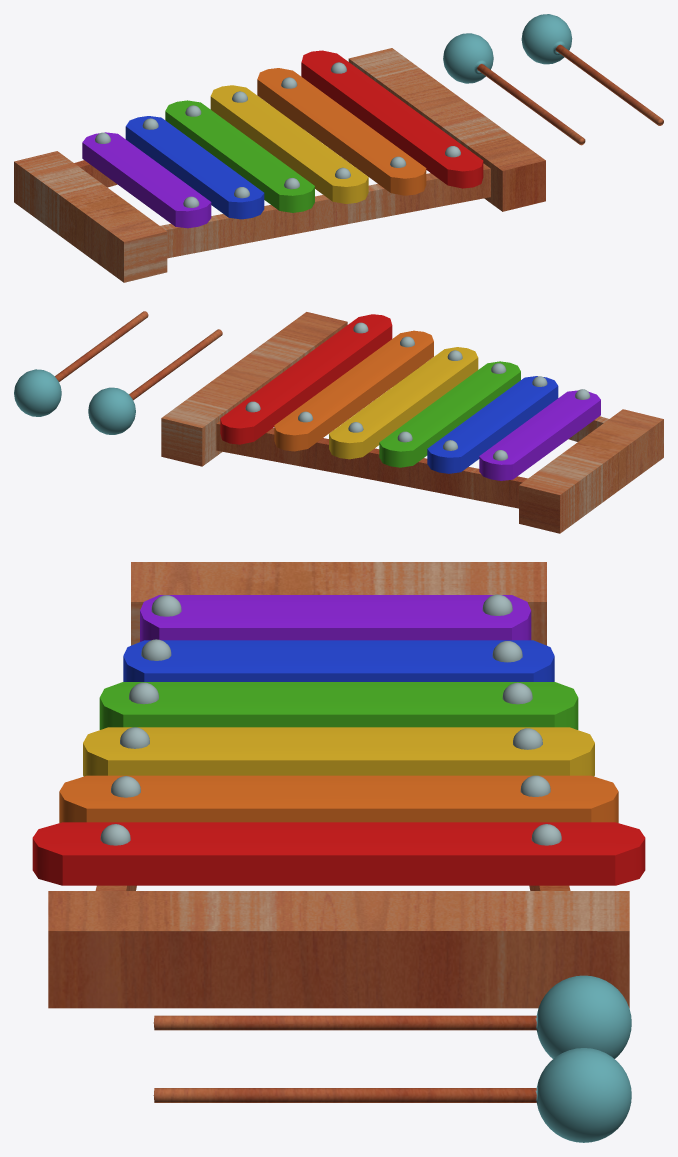
File: xylophone1.gltf
The picture shows the model from 3 angles, top to bottom: view 1: azimuth 30°, elevation 25°; view 2: azimuth 150°, elevation 25°; view 3: azimuth 270°, elevation 25°; orthographic projection. The views are drawn at different scales.
Visible parts, largest first — view 1: ToneBars, Frame, Mallet, Mallet2, Nails; view 2: ToneBars, Frame, Mallet, Mallet2, Nails; view 3: ToneBars, Frame, Mallet2, Mallet, Nails.
Boxes of the visible parts, x1,y1,x2,y2 form: ToneBars: (82,50,483,228); Frame: (14,48,545,282); Mallet: (443,33,585,145); Mallet2: (521,14,663,125); Nails: (95,62,460,207); ToneBars: (220,314,600,480); Frame: (161,312,663,533); Mallet: (88,329,222,434); Mallet2: (14,311,148,416); Nails: (245,322,590,460); ToneBars: (32,595,645,885); Frame: (48,562,629,1008); Mallet2: (153,1048,631,1142); Mallet: (153,975,631,1058); Nails: (100,594,561,845).
Size of the model in its own units: 0.0287 by 0.00291 by 0.0143.
4 materials, 4 textured.
